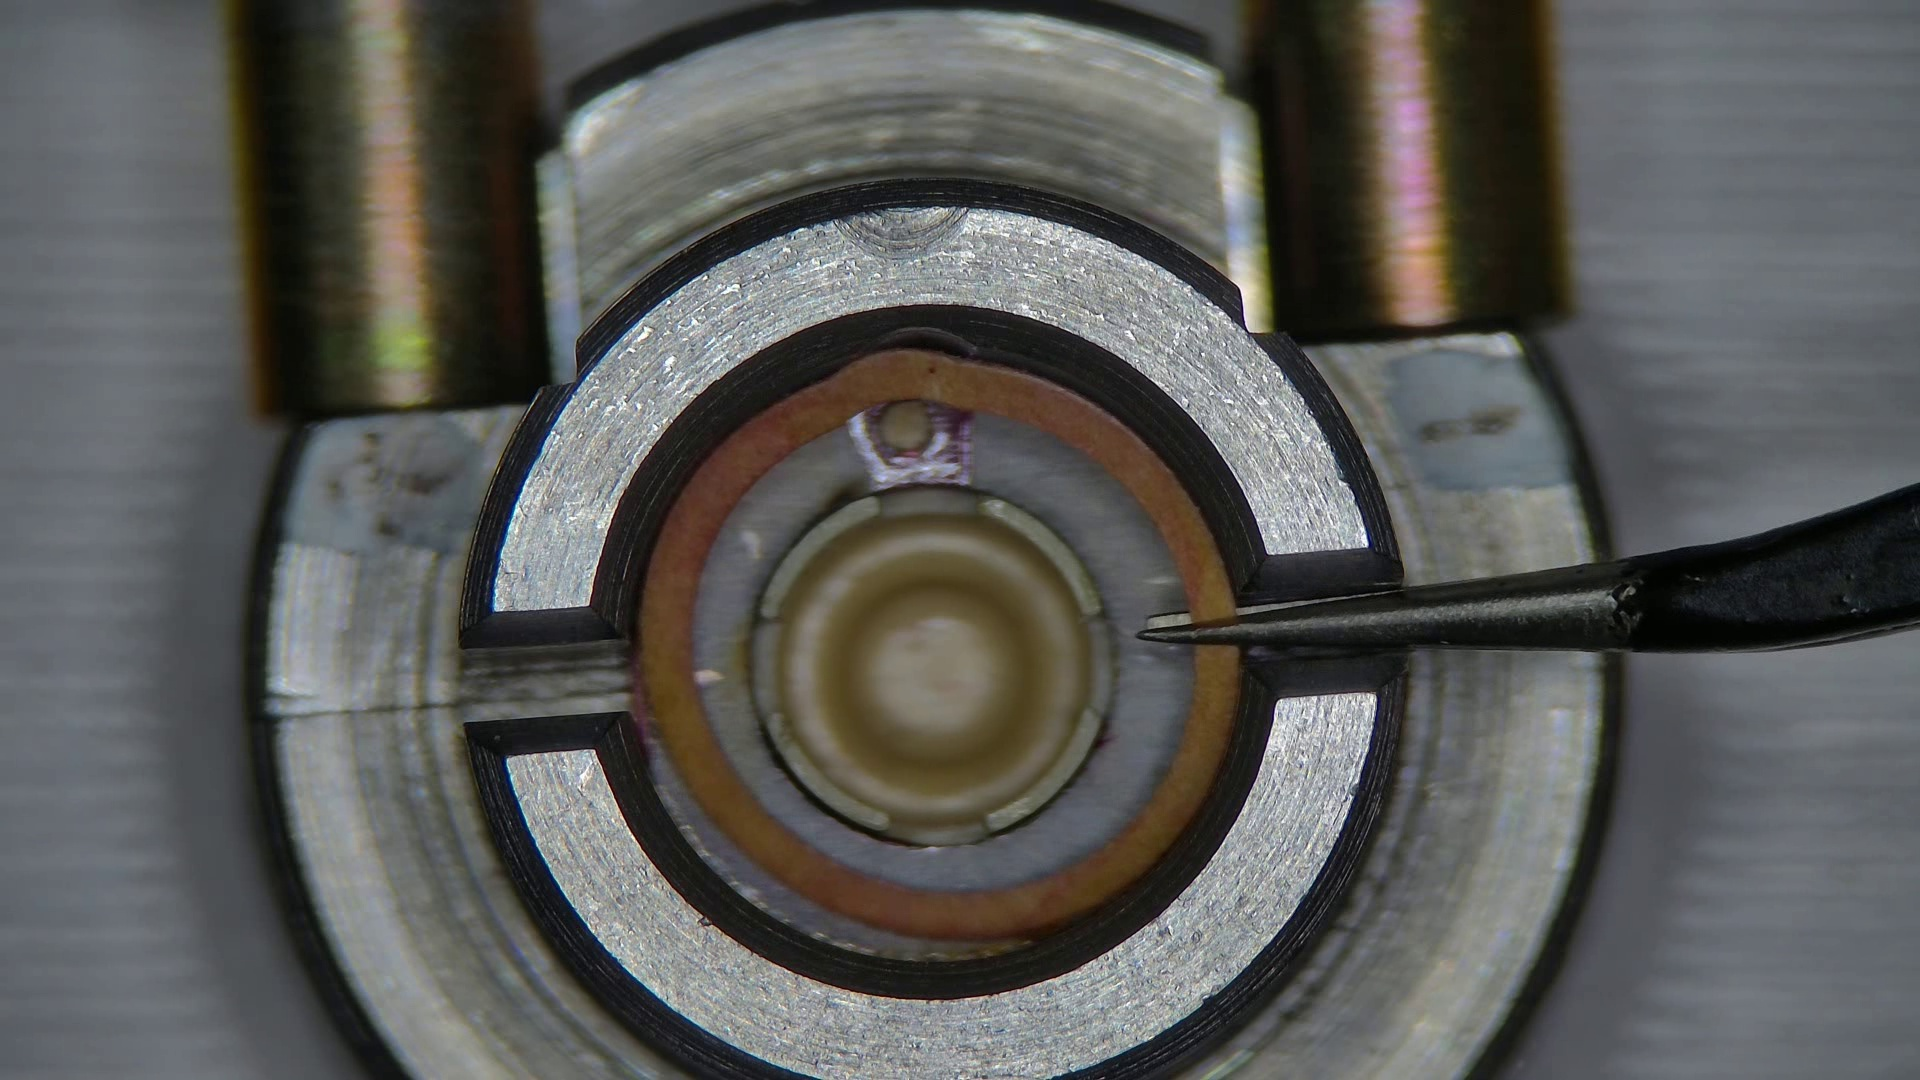GreyOring: (638, 345, 1238, 938)
YellowOring: (694, 405, 1192, 891), (649, 733, 953, 959), (968, 928, 1047, 956)
